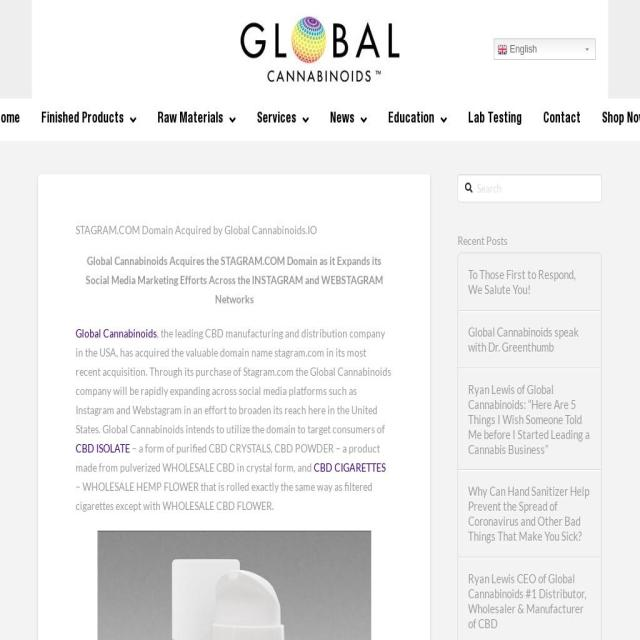button: (76, 530, 393, 640), (468, 381, 591, 457), (468, 570, 591, 632), (468, 484, 591, 544), (30, 98, 147, 141), (146, 98, 246, 141), (468, 266, 591, 296), (468, 324, 591, 354), (377, 98, 457, 141), (457, 98, 532, 141), (246, 98, 320, 141), (318, 98, 378, 141), (532, 98, 591, 141), (493, 38, 596, 60), (590, 98, 640, 140), (0, 98, 31, 141)
field: (457, 174, 602, 203)
heading: (76, 224, 393, 236), (457, 234, 602, 247)
image: (97, 530, 371, 640), (240, 17, 400, 82), (497, 42, 507, 56)
link: (76, 325, 158, 340), (314, 459, 386, 474), (76, 440, 130, 455)
text: (76, 325, 392, 436), (85, 252, 383, 306), (76, 440, 380, 474), (76, 478, 373, 512), (40, 112, 124, 126), (157, 112, 223, 126), (467, 112, 522, 126), (388, 112, 434, 126), (256, 112, 296, 126), (601, 112, 640, 126), (542, 112, 580, 126), (507, 42, 537, 56), (330, 112, 354, 126), (0, 112, 20, 126)
